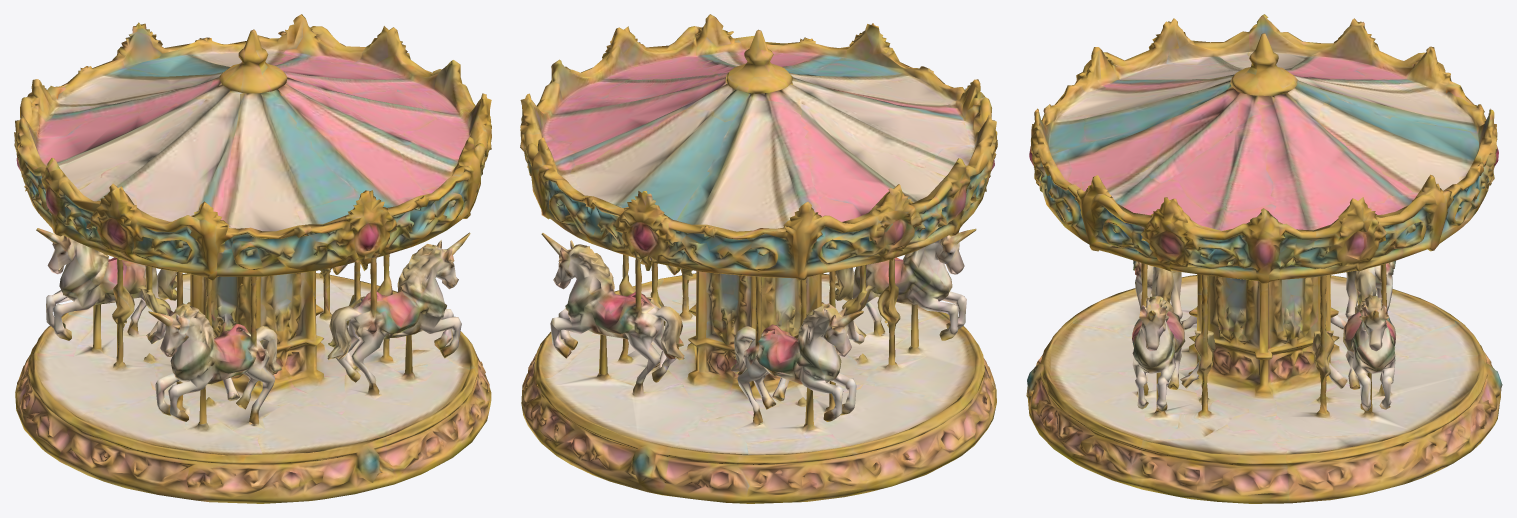
The picture shows the model from 3 angles, left to right: view 1: azimuth 30°, elevation 25°; view 2: azimuth 150°, elevation 25°; view 3: azimuth 270°, elevation 25°; orthographic projection.
Parts seen in each view (by area): view 1: mesh_node; view 2: mesh_node; view 3: mesh_node.
Part boxes in pixels (x1,y1,x2,y2): mesh_node: (14,14,491,503); mesh_node: (520,14,997,503); mesh_node: (1026,14,1502,503).
Size of the model in its own units: 1.89 by 1.64 by 1.9.
1 material, 1 textured.
